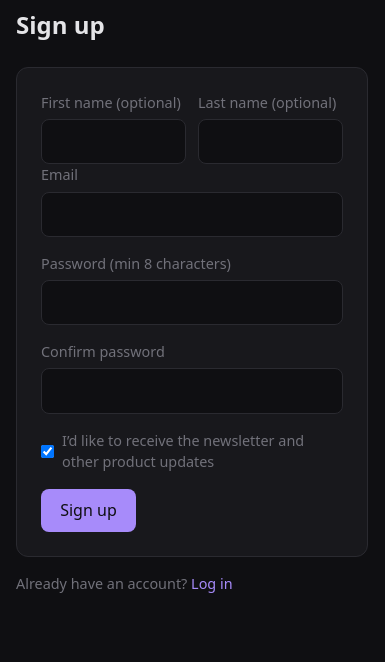
Test case: Signup page – error messages › API returns string error › shows 'Signup failed. Please try again.' when API returns that error
Type "a@b.co" into the field labelled "Email".
click(192, 214); type("a@b.co")  # box [41,192,343,237]
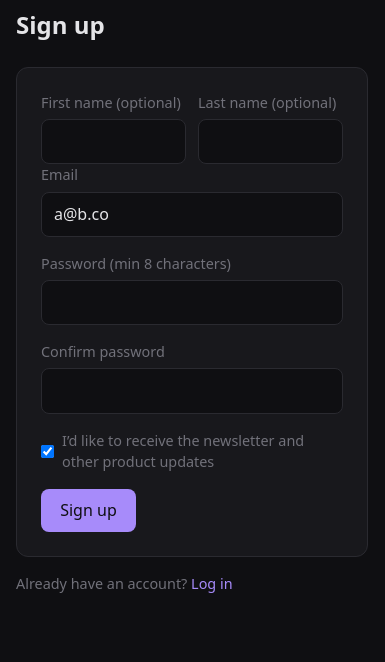
Type "password123" into the password field labelled "Password (min 8 characters)".
click(192, 303); type("password123")  # box [41,280,343,325]
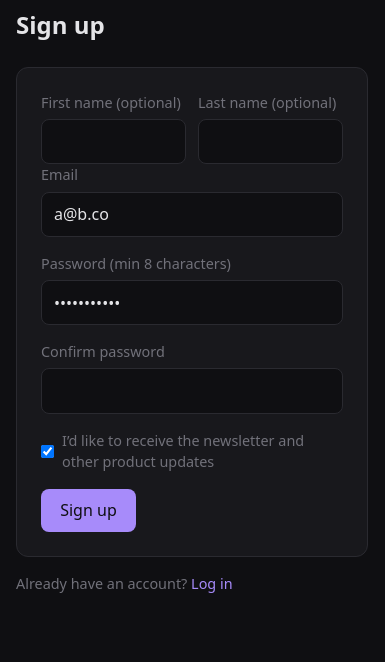
Type "password123" into the password field labelled "Confirm password".
click(192, 391); type("password123")  # box [41,368,343,414]
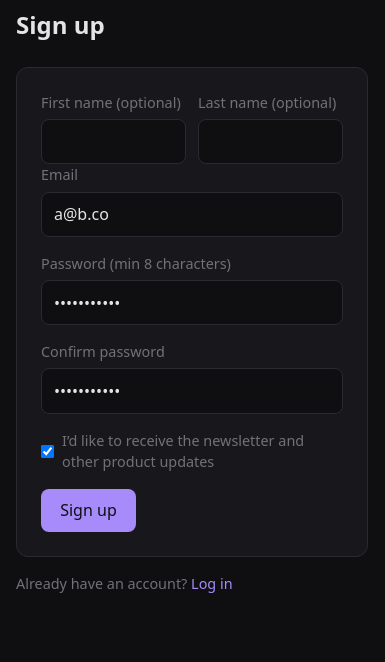
Click the button "Sign up".
click(88, 510)  # box [41,489,136,532]
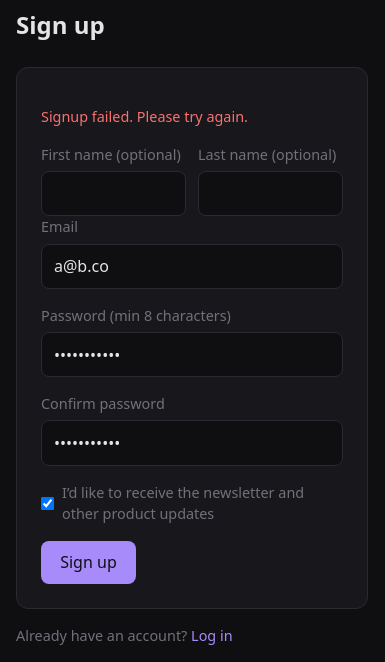
Expected: the text "Signup failed. Please try again." is shown, [41,108,248,126]
